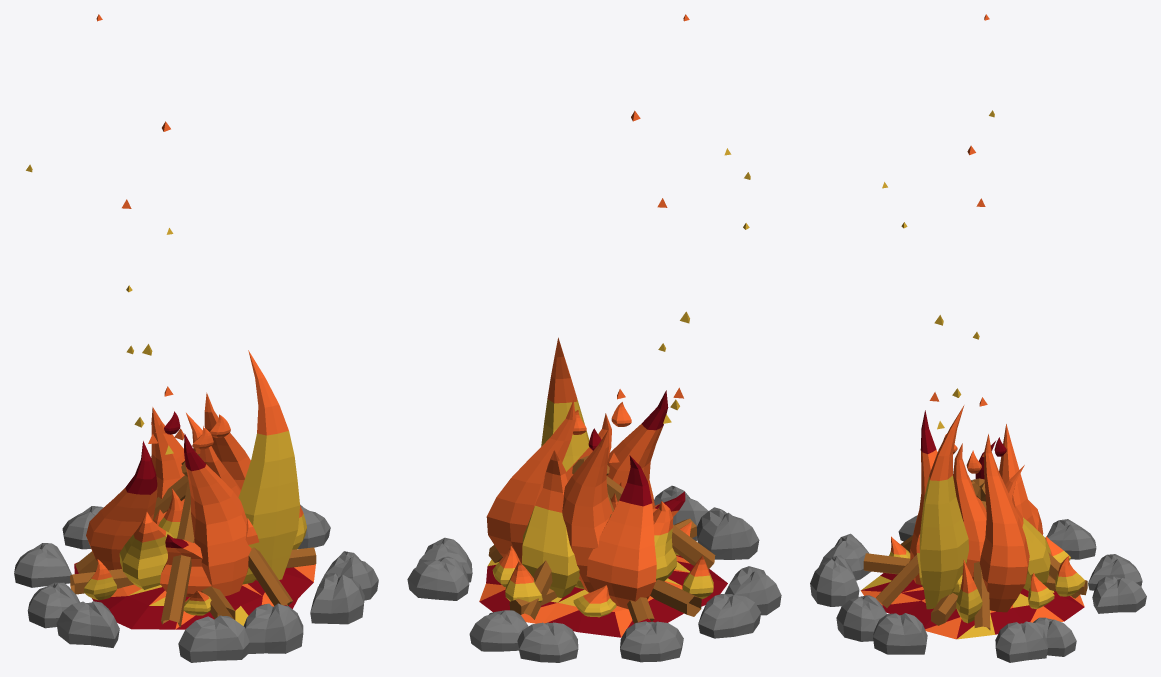
File: gevurah-town-fire.obj
3 views of the same model, side by side, from view 1: azimuth 30°, elevation 25°; view 2: azimuth 150°, elevation 25°; view 3: azimuth 270°, elevation 25° (orthographic). The views are drawn at different scales.
Parts seen in each view (by area): view 1: flames-embers-sparks-state-00, stones-and-logs; view 2: flames-embers-sparks-state-00, stones-and-logs; view 3: flames-embers-sparks-state-00, stones-and-logs.
Part boxes in pixels (<box>): flames-embers-sparks-state-00: <box>26,14,315,629</box>; stones-and-logs: <box>14,454,378,662</box>; flames-embers-sparks-state-00: <box>479,14,750,637</box>; stones-and-logs: <box>407,455,781,662</box>; flames-embers-sparks-state-00: <box>860,14,1084,639</box>; stones-and-logs: <box>810,478,1146,662</box>.
Bounding box in the file's own units: 6.42 × 11.57 × 6.53.
